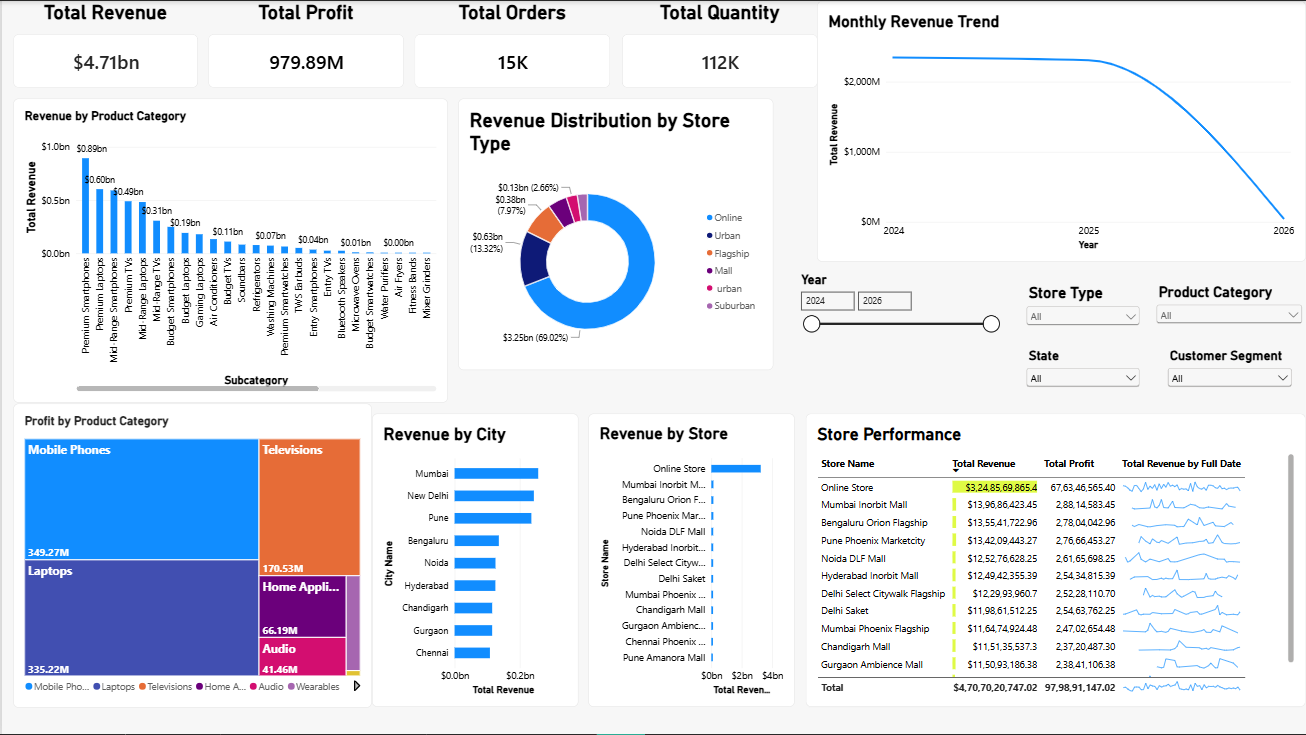

Layout of this report page (visuals, bound fields, positions):
{"tool":"powerbi","page":{"name":"Retail Sales Dashboard","canvas":[1920,1080],"ordinal":1},"visuals":[{"type":"cardVisual","title":"Total Revenue","fields":{"Data":["Fact Sales.Total Revenue"]},"box":[16,0,272,128],"z":0},{"type":"cardVisual","title":"Total Profit","fields":{"Data":["Fact Sales.Total Profit"]},"box":[304,0,288,128],"z":1},{"type":"cardVisual","title":"Total Orders","fields":{"Data":["Fact Sales.Total Orders"]},"box":[608,0,288,128],"z":2},{"type":"cardVisual","title":"Total Quantity","fields":{"Data":["Fact Sales.Total Quantity"]},"box":[912,0,288,128],"z":3},{"type":"clusteredColumnChart","title":"Revenue by Product Category","fields":{"Category":["Dim Product.Category","Dim Product.Subcategory"],"Y":["Fact Sales.Total Revenue"]},"box":[16,144,640,448],"z":4},{"type":"treemap","title":"Profit by Product Category","fields":{"Group":["Dim Product.Category"],"Values":["Fact Sales.Total Profit"]},"box":[16,592,528,448],"z":5},{"type":"clusteredBarChart","title":"Revenue by Store","fields":{"Category":["Dim Store.Store Name"],"Y":["Fact Sales.Total Revenue"]},"box":[864,608,304,432],"z":6},{"type":"lineChart","title":"Monthly Revenue Trend","fields":{"Category":["Dim Date.Year","Dim Date.Month Name"],"Y":["Fact Sales.Total Revenue"]},"box":[1200,0,720,384],"z":7},{"type":"donutChart","title":"Revenue Distribution by Store Type","fields":{"Category":["Dim Store.Store Type"],"Y":["Fact Sales.Total Revenue"]},"box":[672,144,464,400],"z":8},{"type":"clusteredBarChart","title":"Revenue by City","fields":{"Category":["Dim City.City Name"],"Y":["Fact Sales.Total Revenue"]},"box":[544,608,304,432],"z":9},{"type":"slicer","title":"Product Category","fields":{"Values":["Dim Product.Category"]},"box":[1696,416,224,80],"z":10},{"type":"slicer","fields":{"Values":["Dim Customer.Customer Segment"]},"box":[1712,512,192,80],"z":11},{"type":"slicer","fields":{"Values":["Dim Date.Year"]},"box":[1168,400,304,192],"z":12},{"type":"slicer","fields":{"Values":["Dim Store.Store Type"]},"box":[1504,416,176,64],"z":14},{"type":"slicer","fields":{"Values":["Dim State.State Name"]},"box":[1504,512,176,80],"z":15},{"type":"tableEx","title":"Store Performance","fields":{"Values":["Dim Store.Store Name","Fact Sales.Total Revenue","Fact Sales.Total Profit","SparklineData(Fact Sales.Total Revenue_[Dim Date.Full Date])"]},"box":[1184,608,736,432],"z":16}]}

Visuals, with their boxes in screenshot pixels (x1, y1, x2, y2), scaled from the page's 1920x1080 canvas onto the 1306x735 screenshot:
"Total Revenue" cardVisual: (11,0,196,87)
"Total Profit" cardVisual: (207,0,403,87)
"Total Orders" cardVisual: (414,0,609,87)
"Total Quantity" cardVisual: (620,0,816,87)
"Revenue by Product Category" clusteredColumnChart: (11,98,446,403)
"Profit by Product Category" treemap: (11,403,370,708)
"Revenue by Store" clusteredBarChart: (588,414,794,708)
"Monthly Revenue Trend" lineChart: (816,0,1305,261)
"Revenue Distribution by Store Type" donutChart: (457,98,773,370)
"Revenue by City" clusteredBarChart: (370,414,577,708)
"Product Category" slicer: (1154,283,1305,338)
slicer - Dim Customer.Customer Segment: (1165,348,1295,403)
slicer - Dim Date.Year: (794,272,1001,403)
slicer - Dim Store.Store Type: (1023,283,1143,327)
slicer - Dim State.State Name: (1023,348,1143,403)
"Store Performance" tableEx: (805,414,1305,708)
